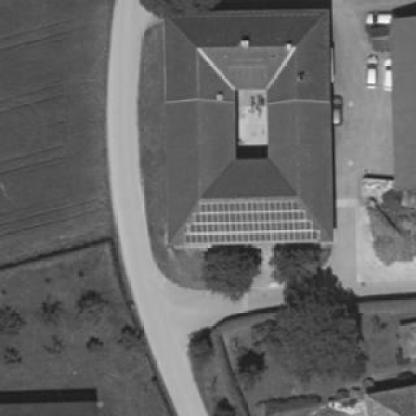solar-pv-panel: (186, 201, 318, 244), (227, 55, 265, 68)
